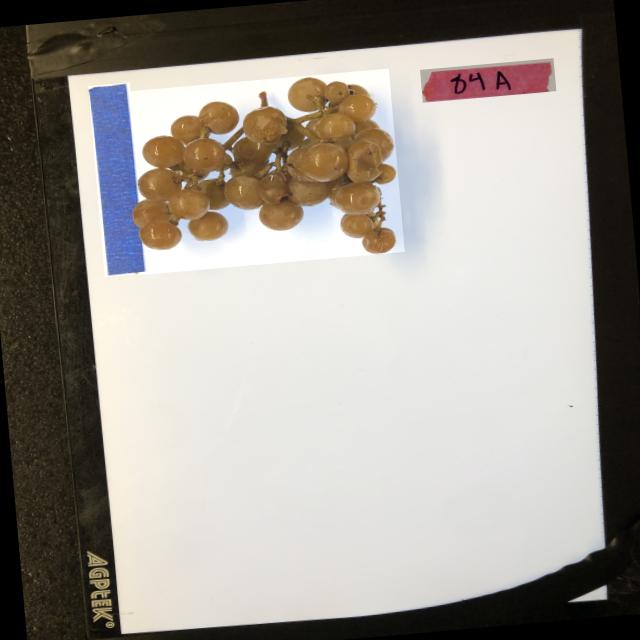grape_cluster: (120, 68, 404, 275)
index: (420, 58, 556, 102)
measure_label: (88, 81, 146, 276)
